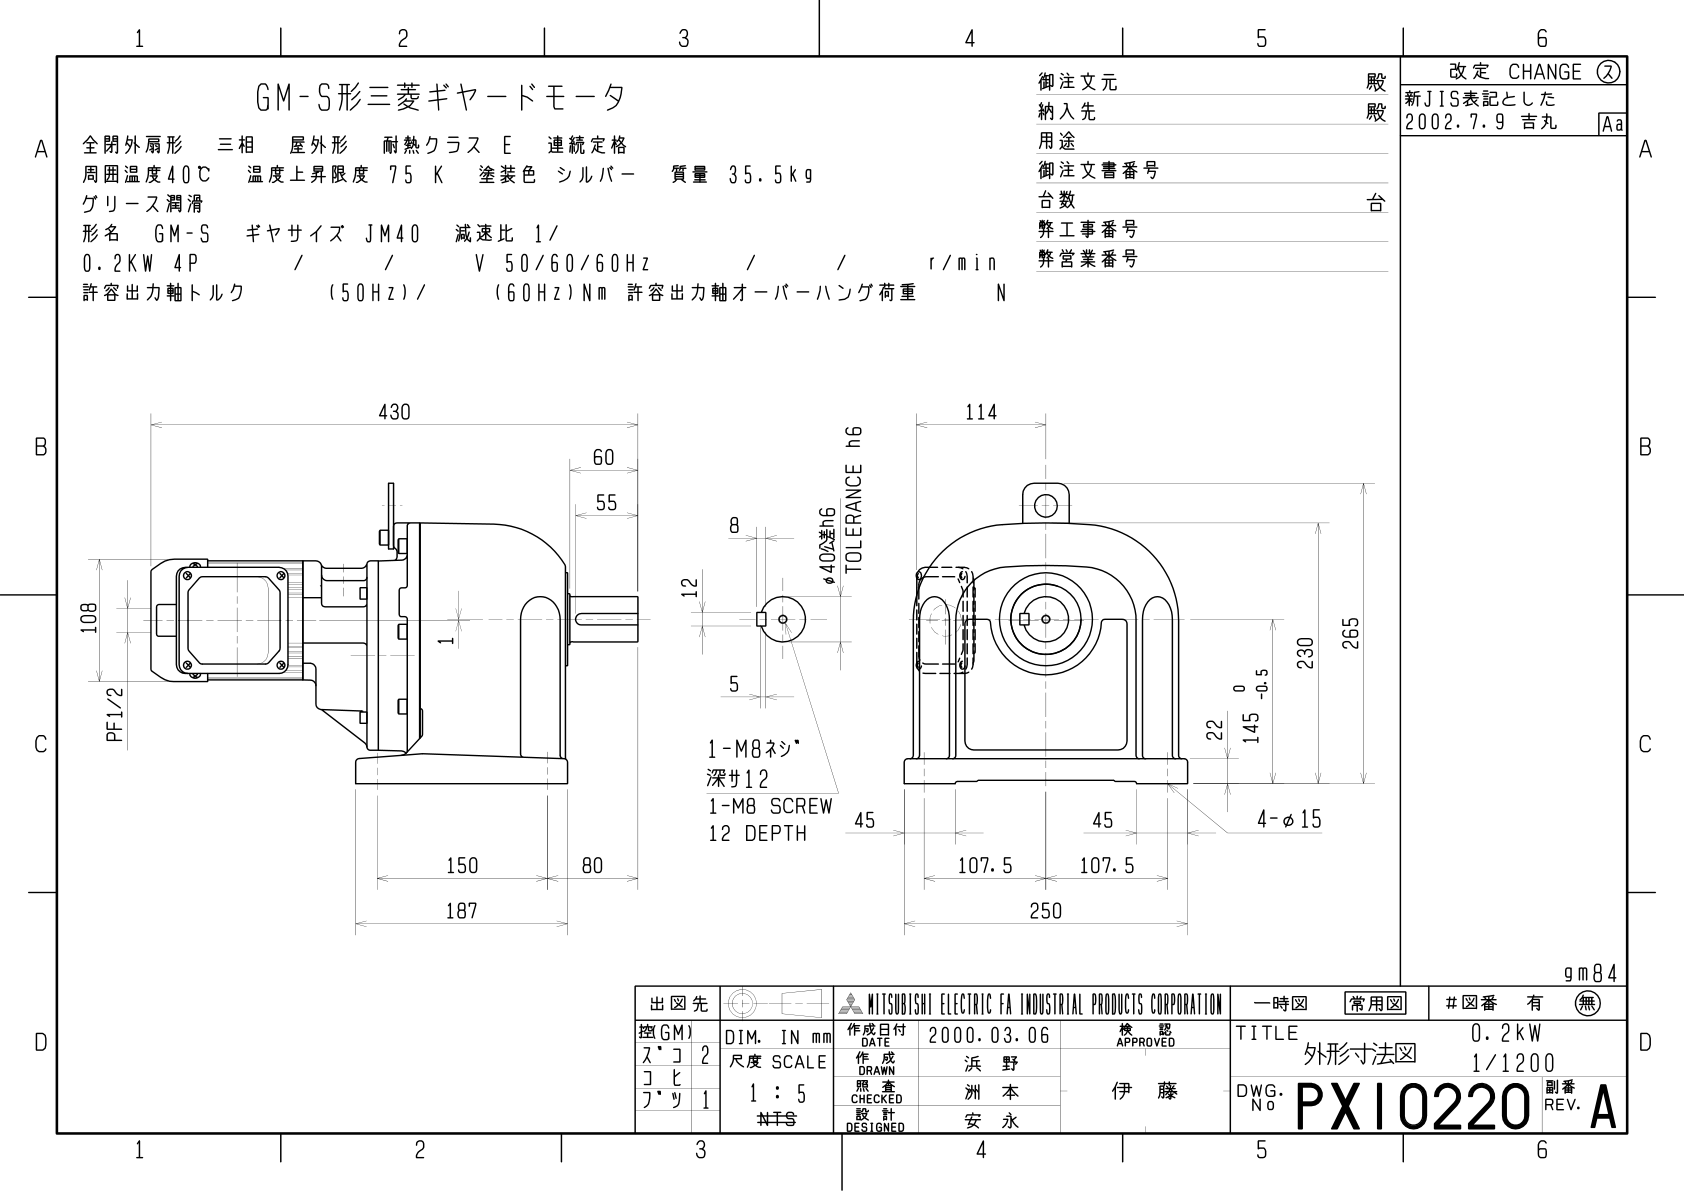GM_S_屋外＿三相_脚: (73, 375, 1386, 945)
